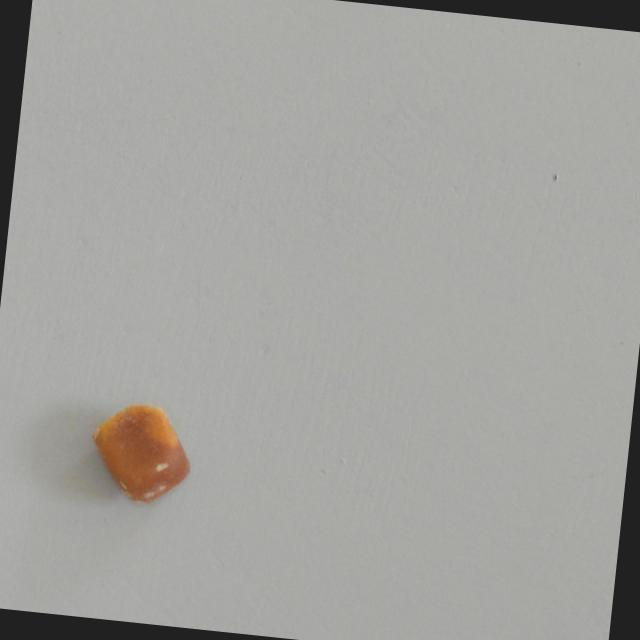dañado: (81, 396, 200, 515)
